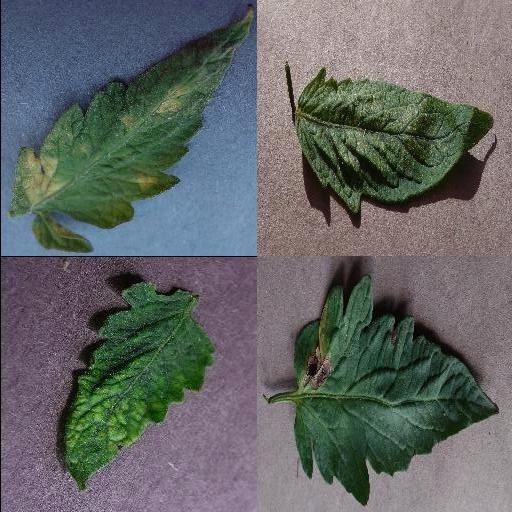Early Blight: (290, 274, 498, 506)
Leaf Mold: (9, 2, 255, 254)
Mosaic Virus: (61, 281, 215, 491)
Spider Mites: (295, 69, 493, 215)
